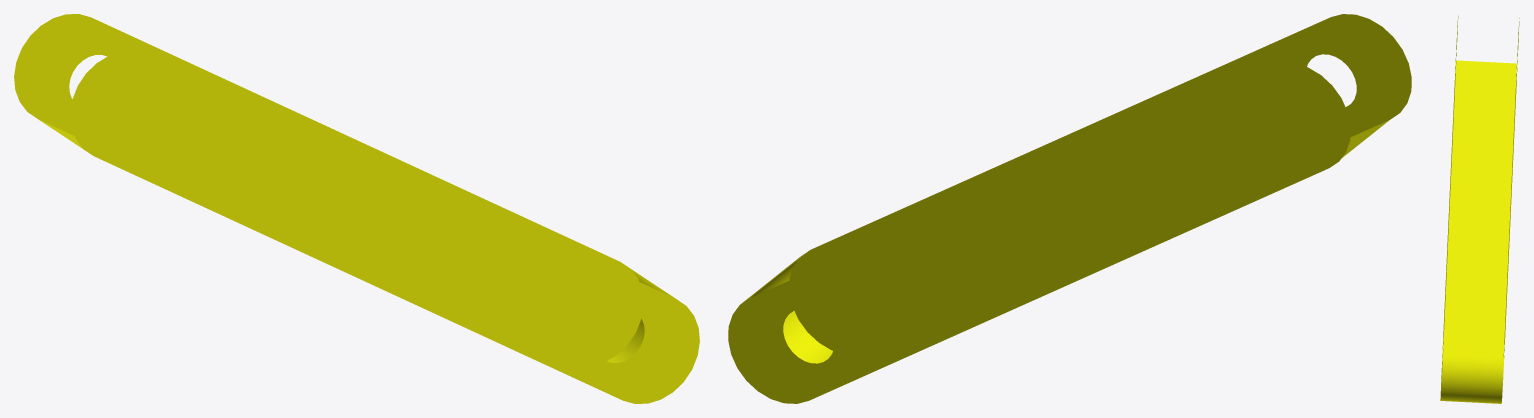
Rendered from body_12.obj.
3 views of the same model, side by side, from view 1: azimuth 30°, elevation 25°; view 2: azimuth 150°, elevation 25°; view 3: azimuth 270°, elevation 25° (orthographic). The views are drawn at different scales.
Parts seen in each view (by area): view 1: Body_23; view 2: Body_23; view 3: Body_23.
Part boxes in pixels (left/top/right/bottom): Body_23: left=14, top=14, right=699, bottom=403; Body_23: left=728, top=14, right=1411, bottom=403; Body_23: left=1440, top=15, right=1519, bottom=403.
Bounding box in the file's own units: 0.0495 × 0.036 × 0.0103.
